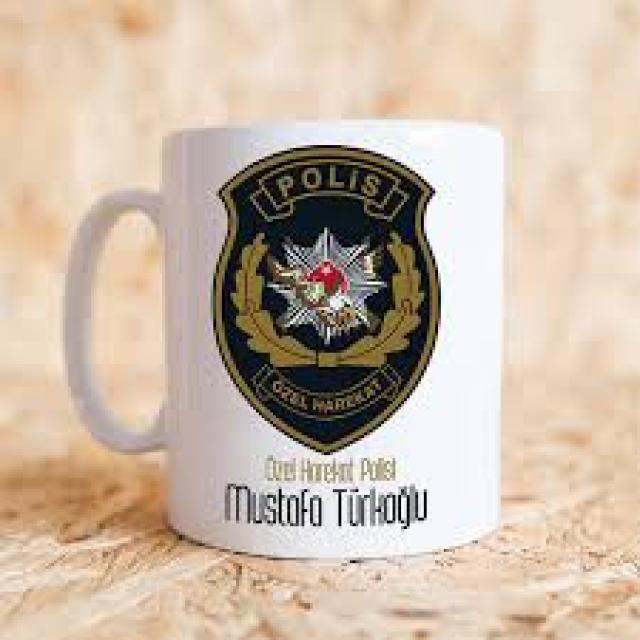taza: (64, 117, 504, 558)
